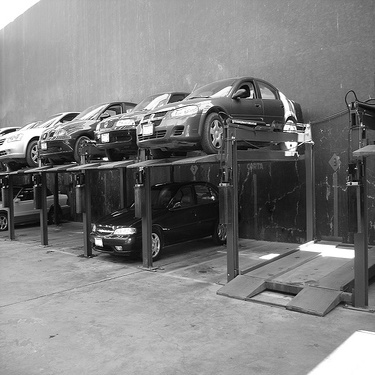car: (130, 76, 303, 152), (89, 179, 242, 263), (90, 89, 196, 163), (34, 99, 135, 164), (5, 114, 78, 167), (1, 183, 72, 231), (1, 126, 25, 166)
